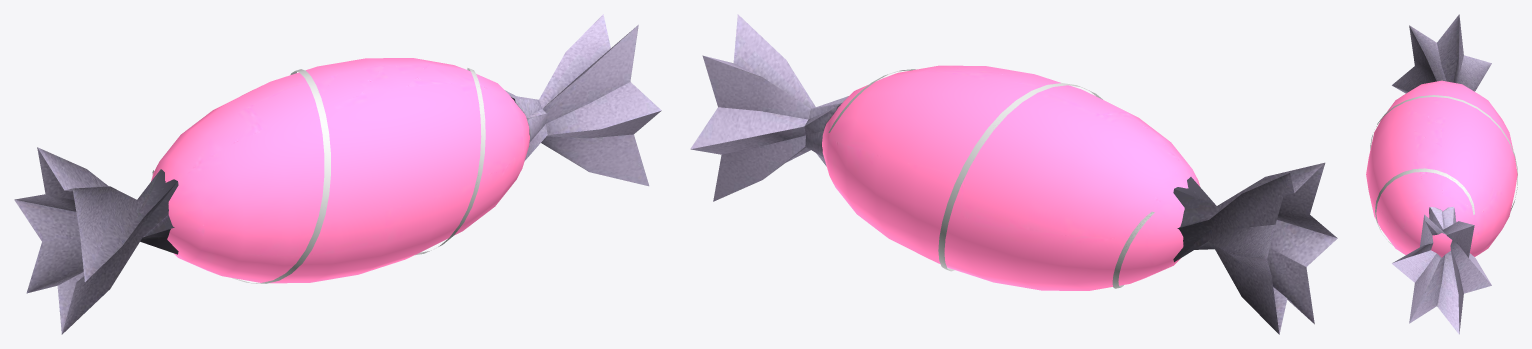
3 renders of one model, left to right at view 1: azimuth 30°, elevation 25°; view 2: azimuth 150°, elevation 25°; view 3: azimuth 270°, elevation 25°, orthographic. The views are drawn at different scales.
Visible parts, largest first — view 1: glow_Jelly_—_choose_CandyTint_attribute, Clear_pastel_iridescent_cellophane, White_sugar_spiral; view 2: glow_Jelly_—_choose_CandyTint_attribute, Clear_pastel_iridescent_cellophane, White_sugar_spiral; view 3: glow_Jelly_—_choose_CandyTint_attribute, Clear_pastel_iridescent_cellophane, White_sugar_spiral.
Boxes of the visible parts, x1,y1,x2,y2 form: glow_Jelly_—_choose_CandyTint_attribute: (151,58,529,283); Clear_pastel_iridescent_cellophane: (14,14,661,334); White_sugar_spiral: (152,68,485,283); glow_Jelly_—_choose_CandyTint_attribute: (822,65,1200,290); Clear_pastel_iridescent_cellophane: (690,14,1337,334); White_sugar_spiral: (828,69,1154,288); glow_Jelly_—_choose_CandyTint_attribute: (1366,80,1517,257); Clear_pastel_iridescent_cellophane: (1392,14,1491,334); White_sugar_spiral: (1370,95,1517,245).
Size of the model in its own units: 1 by 0.32 by 0.3205.
Materials: 3 (3 with a texture image).
